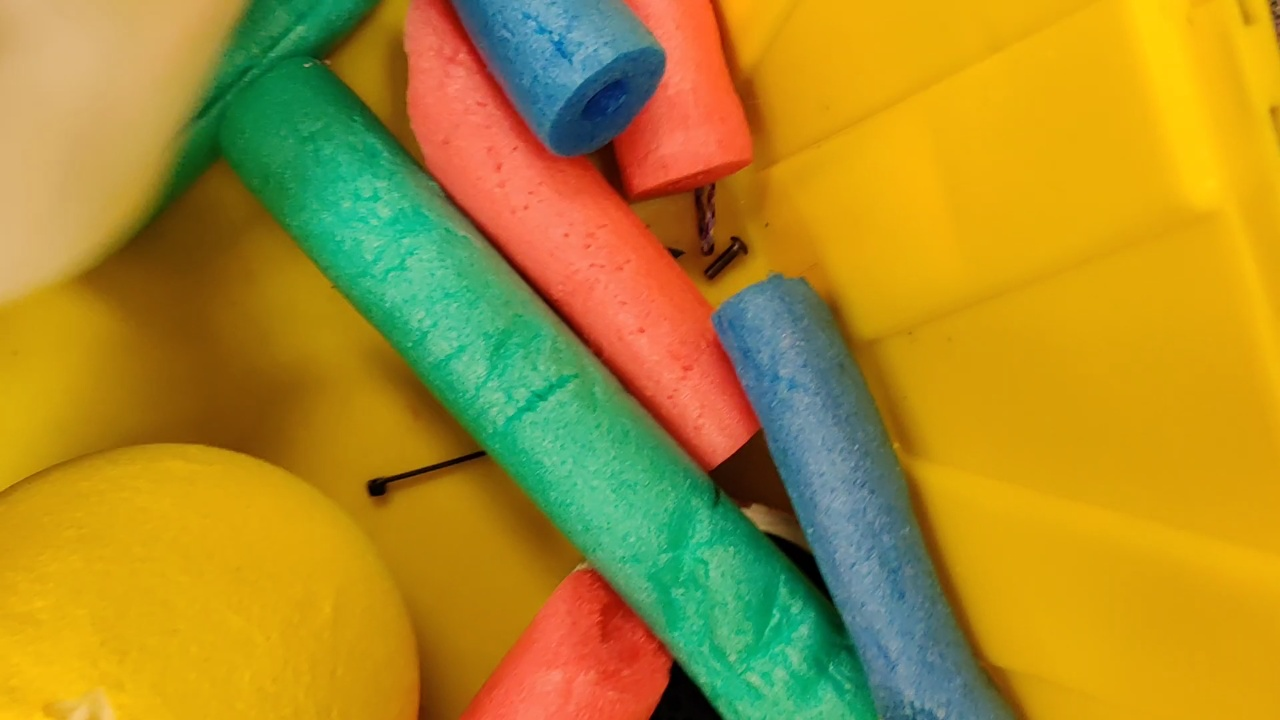Ball: (1, 442, 422, 719)
